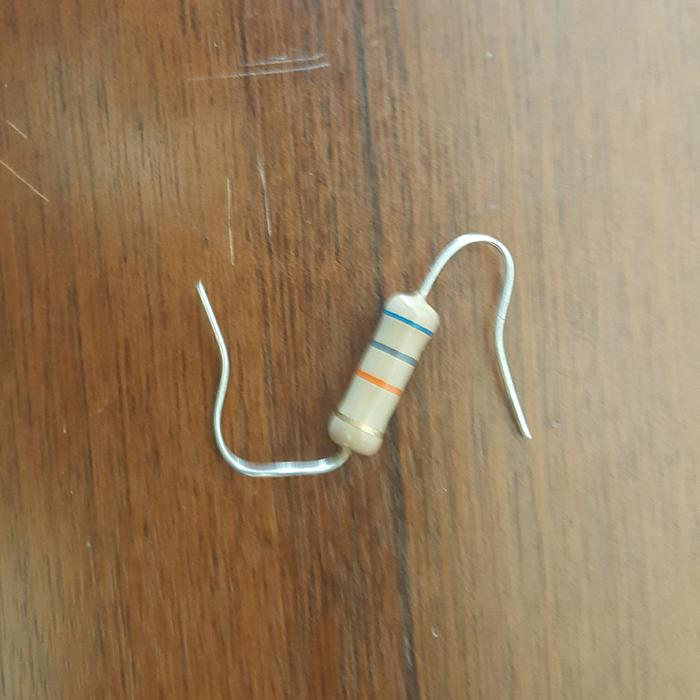resistor: (329, 295, 438, 452)
